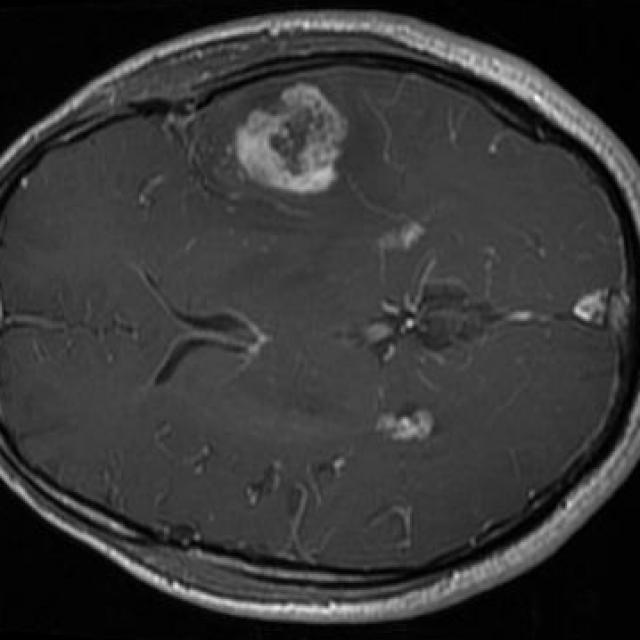glioma: (230, 84, 346, 196)
